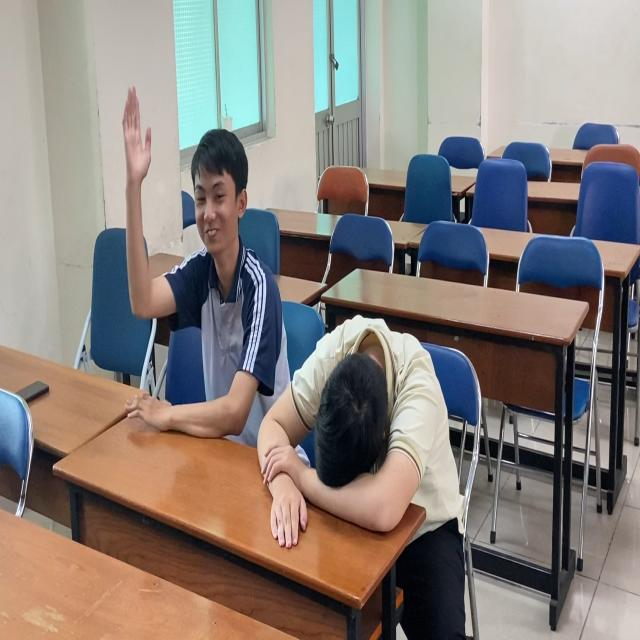raise_hand: (120, 85, 284, 453)
sleep: (253, 304, 463, 557)
